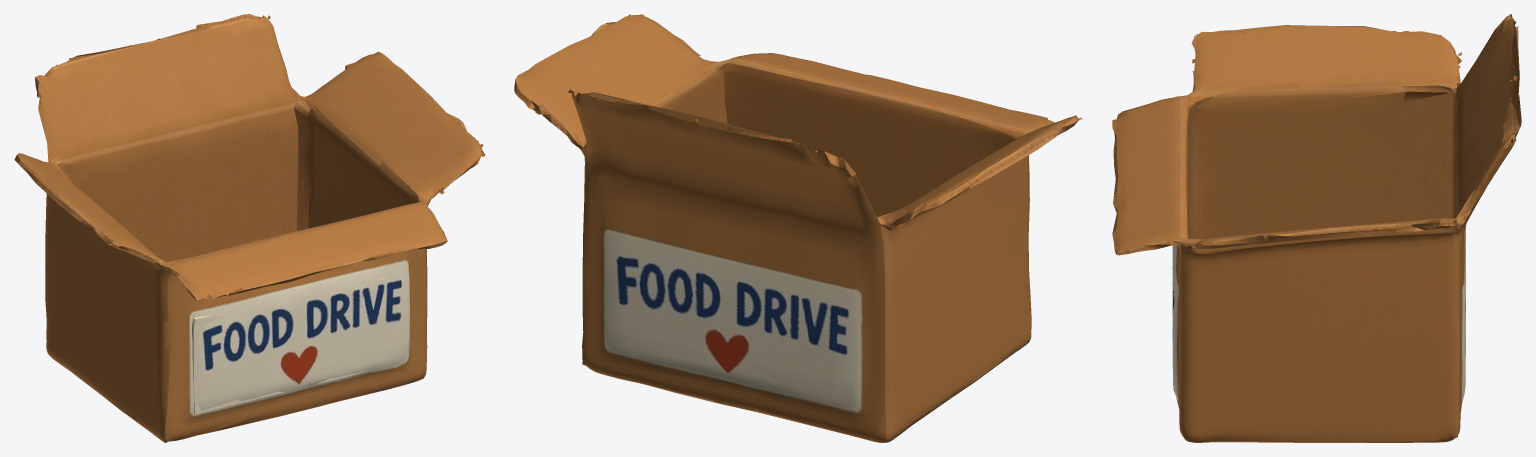
File: bagis-kutusu.glb
The picture shows the model from 3 angles, left to right: view 1: azimuth 30°, elevation 25°; view 2: azimuth 150°, elevation 25°; view 3: azimuth 270°, elevation 25°; orthographic projection. The views are drawn at different scales.
Visible parts, largest first — view 1: Mesh0; view 2: Mesh0; view 3: Mesh0.
Part boxes in pixels (x1,y1,x2,y2): Mesh0: [14, 14, 485, 442]; Mesh0: [514, 14, 1082, 442]; Mesh0: [1112, 14, 1521, 442].
Size of the model in its own units: 1.9 by 1.27 by 1.54.
Materials: 1 (1 with a texture image).
